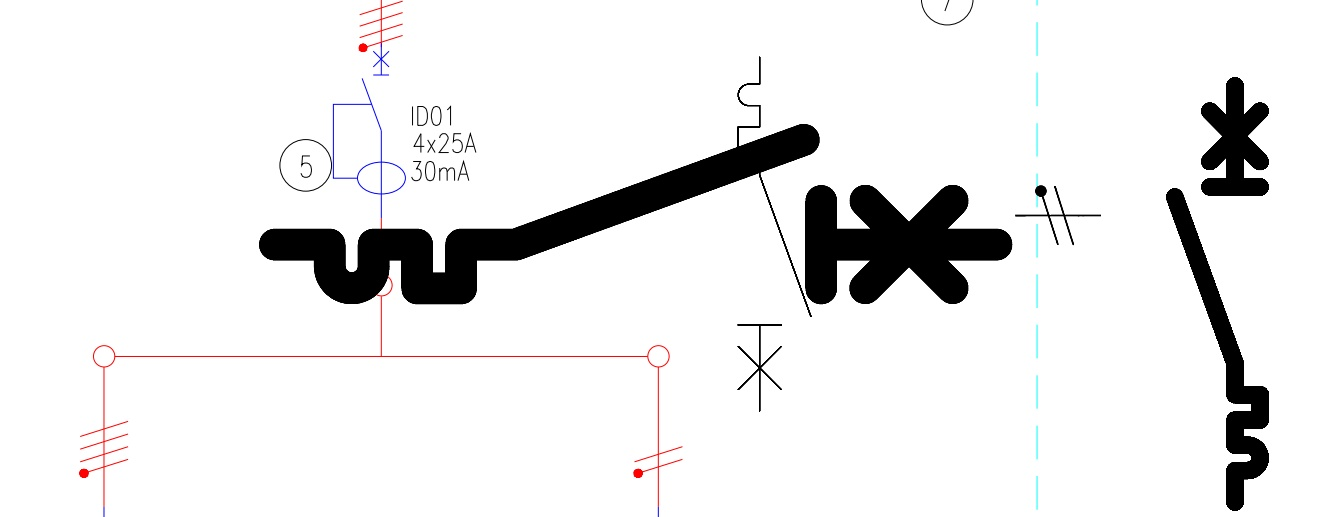interruptor_termomagnetico: (256, 121, 1014, 307), (1164, 75, 1271, 513), (729, 48, 820, 420)
